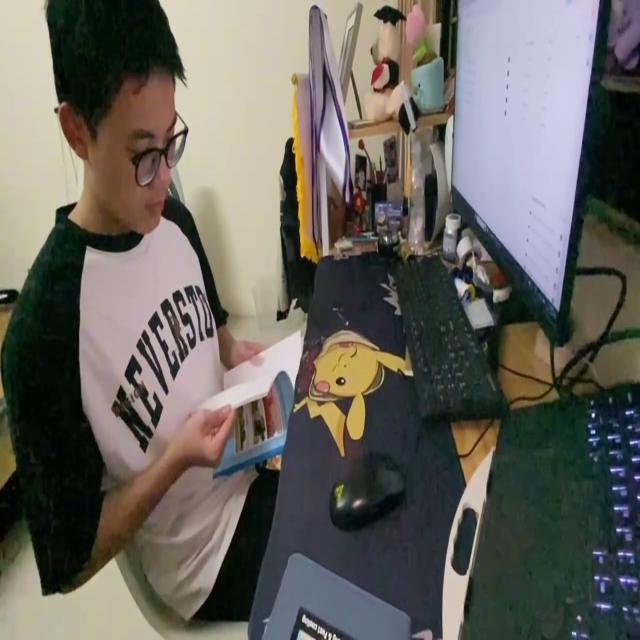book: (191, 332, 306, 479)
laptop: (449, 3, 616, 351)
student: (2, 0, 282, 622)
